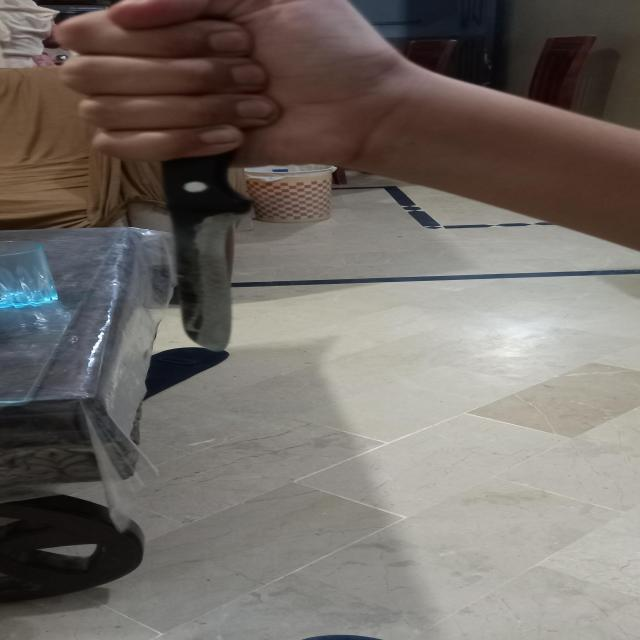faca: (158, 155, 250, 354)
